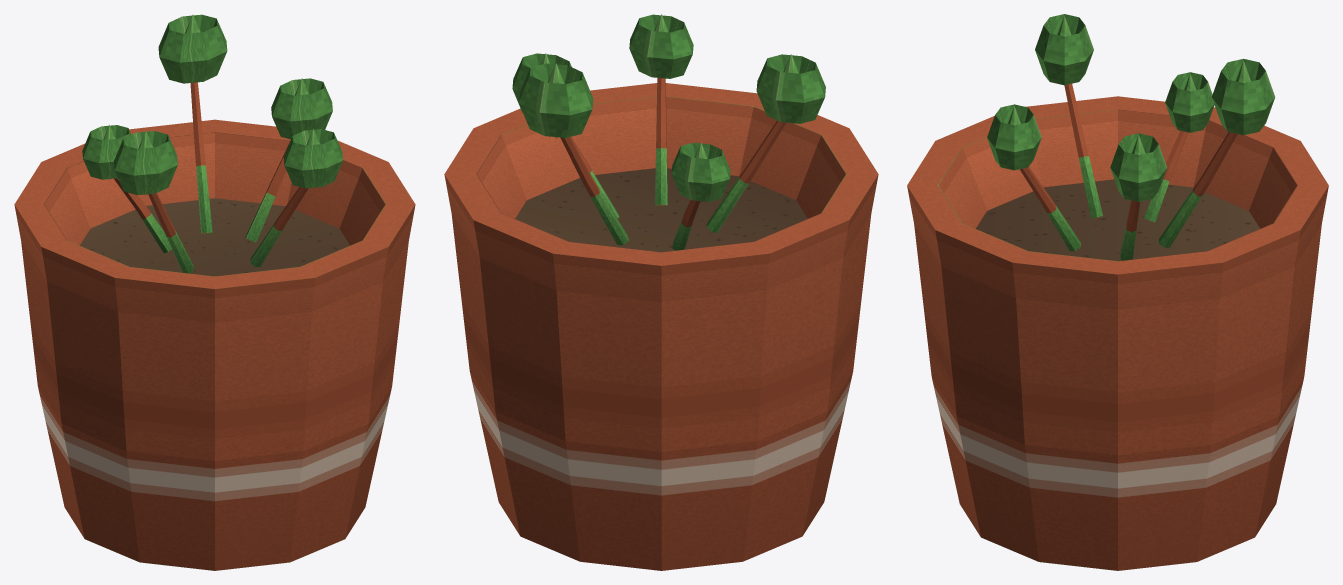
The model's file is Prop_Pot.fbx.
3 views of the same model, side by side, from view 1: azimuth 30°, elevation 25°; view 2: azimuth 150°, elevation 25°; view 3: azimuth 270°, elevation 25° (orthographic). The views are drawn at different scales.
Visible parts, largest first — view 1: Prop_Pot; view 2: Prop_Pot; view 3: Prop_Pot.
Part boxes in pixels (x1=…): Prop_Pot: x1=14, y1=14, x2=415, y2=570; Prop_Pot: x1=444, y1=14, x2=878, y2=570; Prop_Pot: x1=907, y1=14, x2=1328, y2=570.
Size of the model in its own units: 60 by 72.7 by 60.
Materials: 1 (1 with a texture image).
